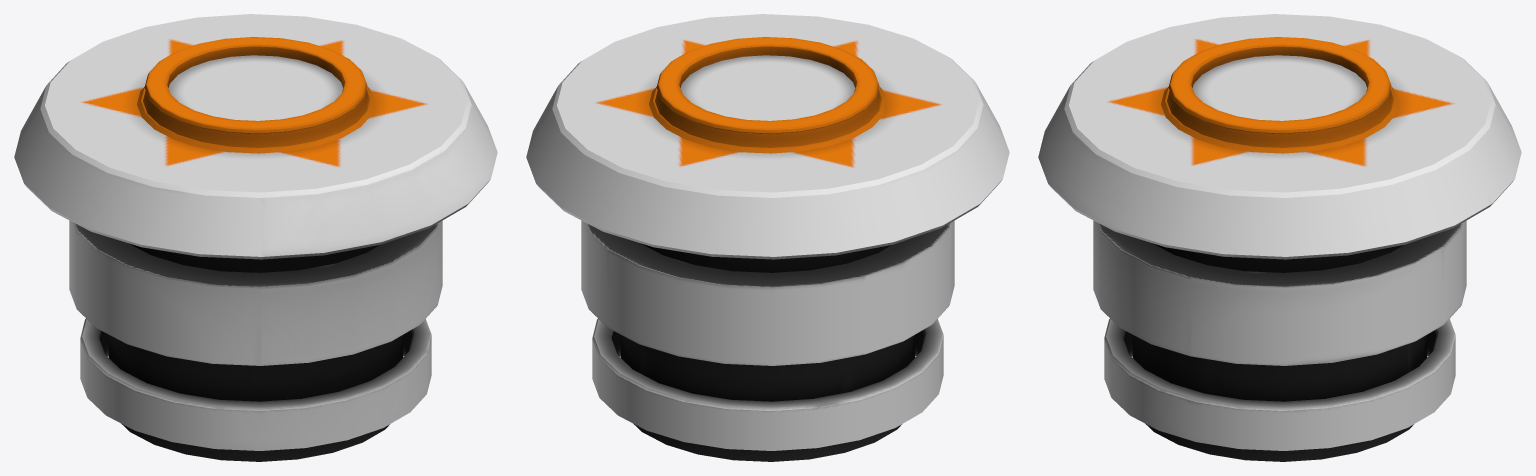
Rendered from bumper_medium.fbx.
3 renders of one model, left to right at view 1: azimuth 30°, elevation 25°; view 2: azimuth 150°, elevation 25°; view 3: azimuth 270°, elevation 25°, orthographic.
Parts seen in each view (by area): view 1: bumper_medium; view 2: bumper_medium; view 3: bumper_medium.
Part boxes in pixels (left/top/right/bottom): bumper_medium: left=14, top=14, right=497, bottom=461; bumper_medium: left=526, top=14, right=1009, bottom=461; bumper_medium: left=1038, top=14, right=1521, bottom=461.
Bounding box in the file's own units: 275 × 199 × 275.
1 material, 1 textured.
